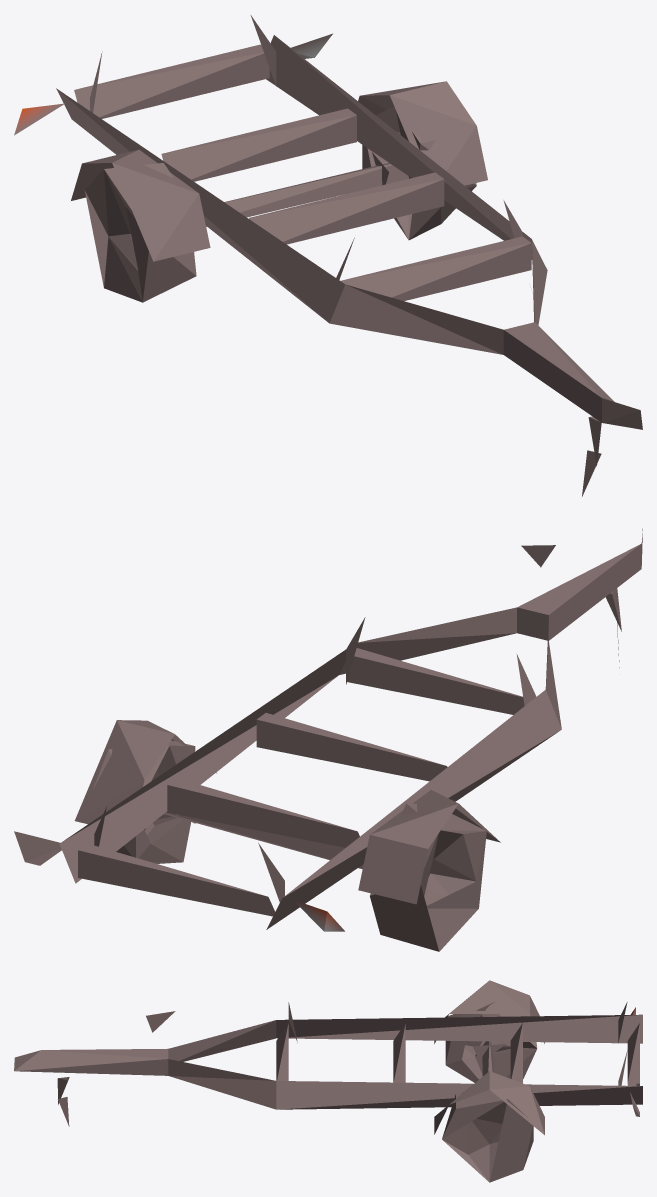
File: bay-jetski-trailer.lod1.glb
3 renders of one model, top to bottom at view 1: azimuth 30°, elevation 25°; view 2: azimuth 150°, elevation 25°; view 3: azimuth 270°, elevation 25°, orthographic. The views are drawn at different scales.
Parts seen in each view (by area): view 1: V1_JetSkiTrailer_1_Stand_1_VehiclesGeneric_0; view 2: V1_JetSkiTrailer_1_Stand_1_VehiclesGeneric_0; view 3: V1_JetSkiTrailer_1_Stand_1_VehiclesGeneric_0.
Part boxes in pixels (box(x1,y1,x2,y2)): V1_JetSkiTrailer_1_Stand_1_VehiclesGeneric_0: box(14, 15, 642, 496); V1_JetSkiTrailer_1_Stand_1_VehiclesGeneric_0: box(14, 528, 642, 951); V1_JetSkiTrailer_1_Stand_1_VehiclesGeneric_0: box(14, 980, 642, 1182).
Size of the model in its own units: 1.68 by 0.8721 by 4.08.
